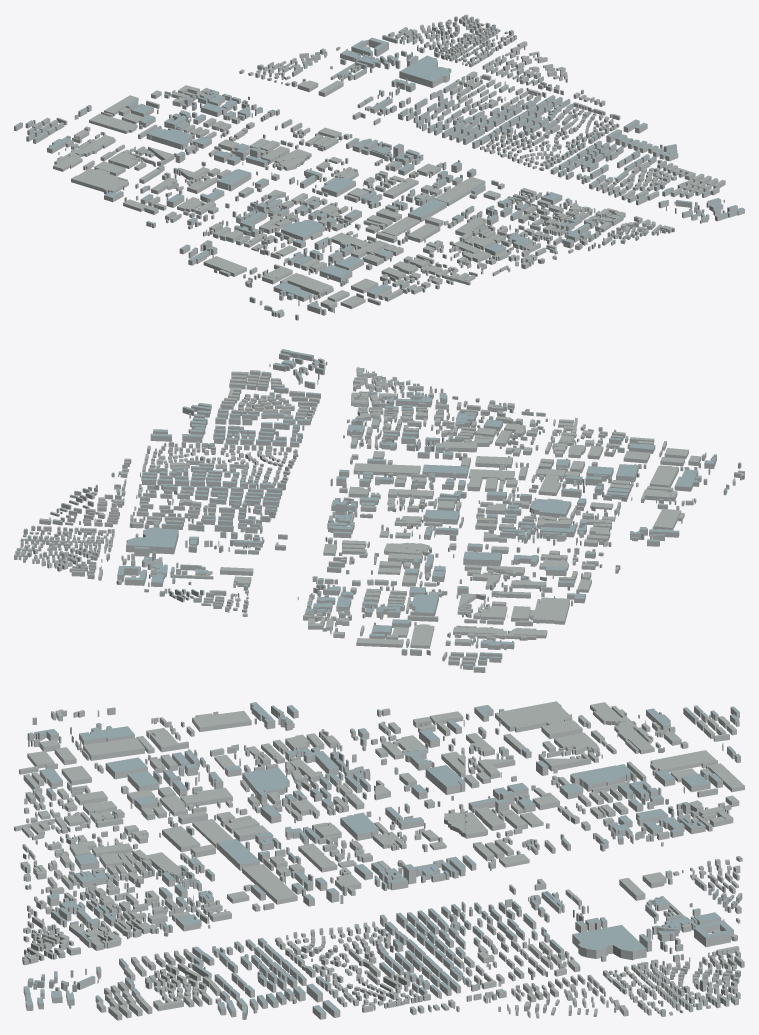
The picture shows the model from 3 angles, top to bottom: view 1: azimuth 30°, elevation 25°; view 2: azimuth 150°, elevation 25°; view 3: azimuth 270°, elevation 25°; orthographic projection. The views are drawn at different scales.
Parts seen in each view (by area): view 1: 上海全域建筑分块 · mapped building neighborhood; view 2: 上海全域建筑分块 · mapped building neighborhood; view 3: 上海全域建筑分块 · mapped building neighborhood.
Boxes of the visible parts, left/top/right/bottom form: 上海全域建筑分块 · mapped building neighborhood: left=14, top=14, right=744, bottom=320; 上海全域建筑分块 · mapped building neighborhood: left=14, top=349, right=744, bottom=672; 上海全域建筑分块 · mapped building neighborhood: left=14, top=701, right=744, bottom=1020.
Size of the model in its own units: 2182 by 44.68 by 2141.
